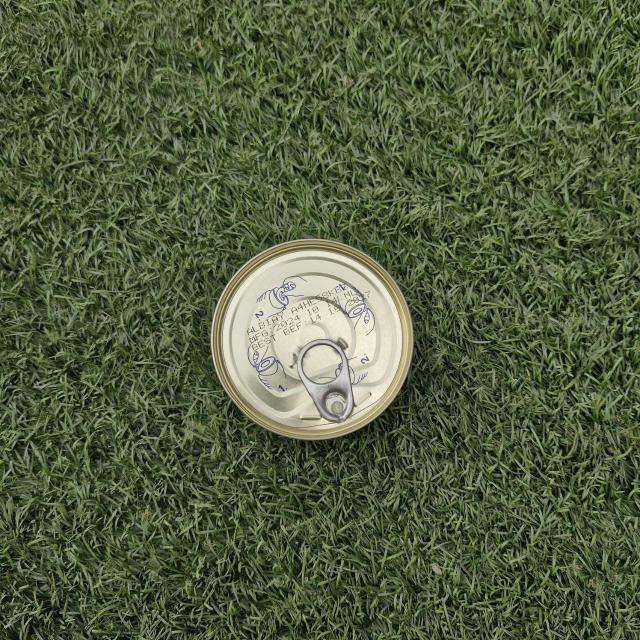metal: (208, 228, 428, 447)
